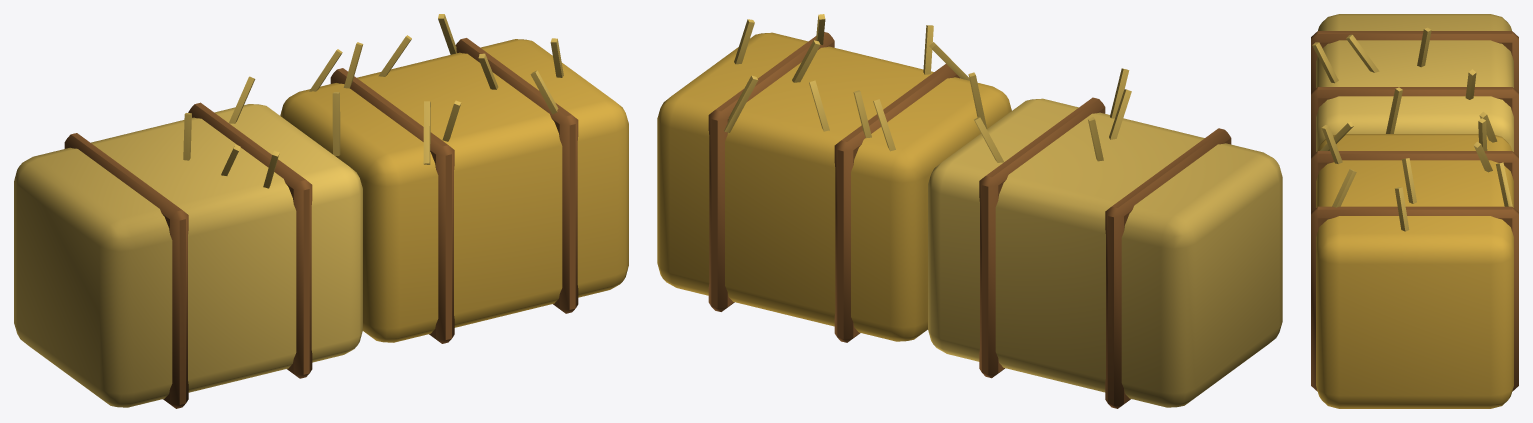
Rendered from vl_hay.glb.
3 renders of one model, left to right at view 1: azimuth 30°, elevation 25°; view 2: azimuth 150°, elevation 25°; view 3: azimuth 270°, elevation 25°, orthographic. The views are drawn at different scales.
Visible parts, largest first — view 1: hay; view 2: hay; view 3: hay.
Part boxes in pixels (x1,y1,x2,y2): hay: (14,14,628,408); hay: (657,14,1282,408); hay: (1311,14,1518,408).
Bounding box in the file's own units: 1.7 × 0.7252 × 0.63.
